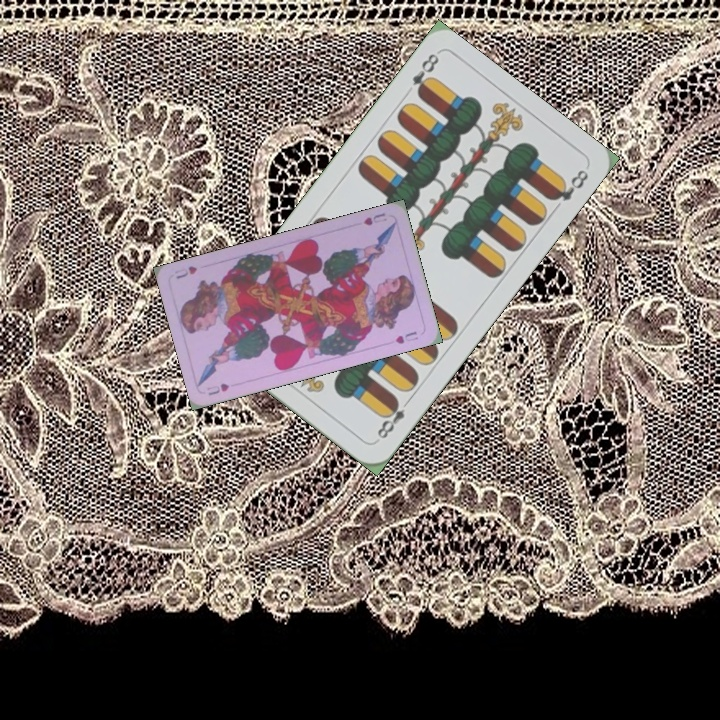E8: (400, 49, 442, 100), (373, 394, 414, 442)
HU: (359, 209, 389, 228), (203, 379, 232, 398)
